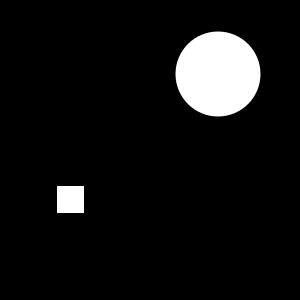circle: (57, 186, 84, 213)
rectangle: (176, 32, 260, 116)
